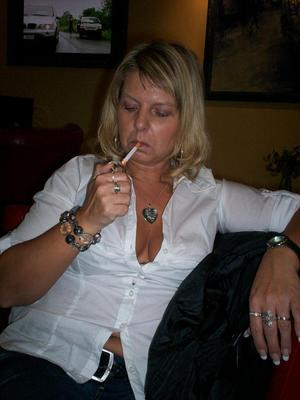person: (2, 34, 300, 398)
